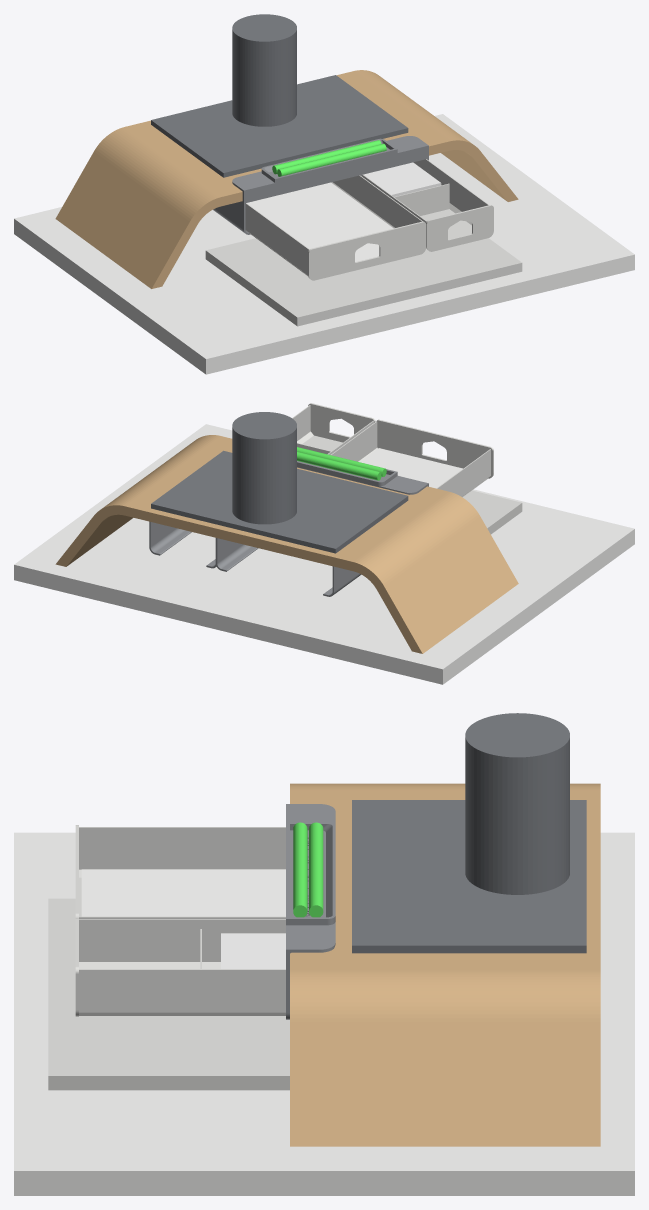
The model's file is larc_hq_abierta.glb.
The picture shows the model from 3 angles, top to bottom: view 1: azimuth 30°, elevation 25°; view 2: azimuth 150°, elevation 25°; view 3: azimuth 270°, elevation 25°; orthographic projection. The views are drawn at different scales.
Parts seen in each view (by area): view 1: larc_hq_abierta.glb_1, larc_hq_abierta.glb_0, larc_hq_abierta.glb_2, larc_hq_abierta.glb_3, larc_hq_abierta.glb_6, larc_hq_abierta.glb_4, larc_hq_abierta.glb_10, larc_hq_abierta.glb_5, larc_hq_abierta.glb_7, larc_hq_abierta.glb_11, larc_hq_abierta.glb_8, larc_hq_abierta.glb_9; view 2: larc_hq_abierta.glb_1, larc_hq_abierta.glb_0, larc_hq_abierta.glb_3, larc_hq_abierta.glb_4, larc_hq_abierta.glb_6, larc_hq_abierta.glb_5, larc_hq_abierta.glb_7, larc_hq_abierta.glb_10, larc_hq_abierta.glb_2, larc_hq_abierta.glb_9, larc_hq_abierta.glb_8; view 3: larc_hq_abierta.glb_0, larc_hq_abierta.glb_1, larc_hq_abierta.glb_3, larc_hq_abierta.glb_2, larc_hq_abierta.glb_7, larc_hq_abierta.glb_4, larc_hq_abierta.glb_6, larc_hq_abierta.glb_10, larc_hq_abierta.glb_5, larc_hq_abierta.glb_11, larc_hq_abierta.glb_8, larc_hq_abierta.glb_9.
Part boxes in pixels (<box>): larc_hq_abierta.glb_1: <box>14,114,634,374</box>; larc_hq_abierta.glb_0: <box>55,70,518,288</box>; larc_hq_abierta.glb_2: <box>205,238,522,326</box>; larc_hq_abierta.glb_3: <box>151,75,408,177</box>; larc_hq_abierta.glb_6: <box>245,175,426,280</box>; larc_hq_abierta.glb_4: <box>232,14,296,126</box>; larc_hq_abierta.glb_10: <box>245,182,393,275</box>; larc_hq_abierta.glb_5: <box>213,136,428,234</box>; larc_hq_abierta.glb_7: <box>362,159,493,251</box>; larc_hq_abierta.glb_11: <box>363,162,441,196</box>; larc_hq_abierta.glb_8: <box>277,143,386,176</box>; larc_hq_abierta.glb_9: <box>272,140,381,174</box>; larc_hq_abierta.glb_1: <box>14,424,634,684</box>; larc_hq_abierta.glb_0: <box>55,435,518,653</box>; larc_hq_abierta.glb_3: <box>151,450,408,553</box>; larc_hq_abierta.glb_4: <box>232,412,296,524</box>; larc_hq_abierta.glb_6: <box>331,419,493,496</box>; larc_hq_abierta.glb_5: <box>149,461,428,596</box>; larc_hq_abierta.glb_7: <box>292,403,375,454</box>; larc_hq_abierta.glb_10: <box>360,448,488,497</box>; larc_hq_abierta.glb_2: <box>463,490,522,534</box>; larc_hq_abierta.glb_9: <box>297,452,381,480</box>; larc_hq_abierta.glb_8: <box>297,447,386,476</box>; larc_hq_abierta.glb_0: <box>290,783,600,1146</box>; larc_hq_abierta.glb_1: <box>14,832,634,1195</box>; larc_hq_abierta.glb_3: <box>352,800,586,953</box>; larc_hq_abierta.glb_2: <box>48,898,289,1090</box>; larc_hq_abierta.glb_7: <box>75,918,285,1016</box>; larc_hq_abierta.glb_4: <box>465,713,569,894</box>; larc_hq_abierta.glb_6: <box>75,825,285,918</box>; larc_hq_abierta.glb_10: <box>81,869,285,916</box>; larc_hq_abierta.glb_5: <box>286,804,335,1019</box>; larc_hq_abierta.glb_11: <box>221,933,285,968</box>; larc_hq_abierta.glb_8: <box>293,822,307,917</box>; larc_hq_abierta.glb_9: <box>309,822,323,917</box>.
Bounding box in the file's own units: 0.58 × 0.233 × 0.45.
